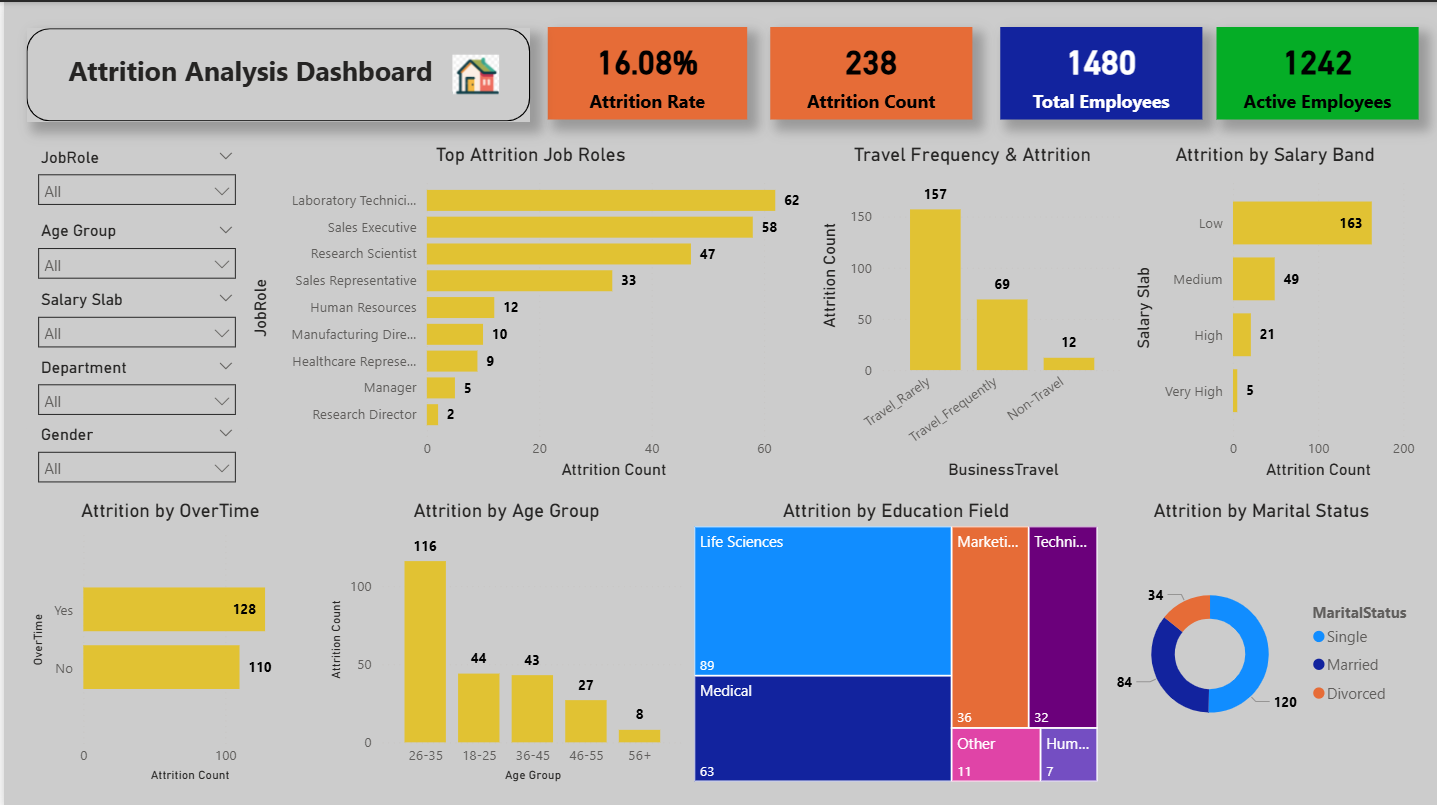

This screenshot's page, from the dashboard's own definition file:
{"tool":"powerbi","page":{"name":"Attrition Analysis","canvas":[1280,720],"ordinal":1},"visuals":[{"type":"card","fields":{"Values":["HR_Analytics.Total Employees"]},"box":[886.7,22.2,180,82.2],"z":0},{"type":"card","fields":{"Values":["HR_Analytics.Attrition Count"]},"box":[682.2,22.2,180,82.2],"z":1000},{"type":"card","fields":{"Values":["HR_Analytics.Active Employees"]},"box":[1080,22.2,180,82.2],"z":2000},{"type":"card","fields":{"Values":["HR_Analytics.Attrition Rate"]},"box":[484.4,22.2,177.8,82.2],"z":3000},{"type":"clusteredColumnChart","title":"Attrition by Age Group","fields":{"Category":["HR_Analytics.Age Group"],"Y":["HR_Analytics.Attrition Count"]},"box":[285,442.5,325,256.2],"z":4000},{"type":"donutChart","title":"Attrition by Marital Status","fields":{"Category":["HR_Analytics.MaritalStatus"],"Y":["HR_Analytics.Attrition Count"]},"box":[978.8,442.5,282.5,256.2],"z":5000},{"type":"clusteredBarChart","title":"Attrition by OverTime","fields":{"Category":["HR_Analytics.OverTime"],"Y":["HR_Analytics.Attrition Count"]},"box":[20,442.5,256.2,256.2],"z":6000},{"type":"columnChart","title":"Travel Frequency & Attrition","fields":{"Category":["HR_Analytics.BusinessTravel"],"Y":["HR_Analytics.Attrition Count"]},"box":[722,126,280,304],"z":7000},{"type":"barChart","title":"Attrition by Salary Band","fields":{"Category":["HR_Analytics.Salary Slab"],"Y":["HR_Analytics.Attrition Count"]},"box":[1002,126,260,304],"z":8000},{"type":"treemap","title":"Attrition by Education Field","fields":{"Values":["HR_Analytics.Attrition Count"],"Group":["HR_Analytics.EducationField"]},"box":[610,442.5,368.8,256.2],"z":9000},{"type":"barChart","title":"Top Attrition Job Roles","fields":{"Category":["HR_Analytics.JobRole"],"Y":["HR_Analytics.Attrition Count"]},"box":[216,126,506,304],"z":10000},{"type":"slicer","fields":{"Values":["HR_Analytics.Department"]},"box":[20,311.7,196.7,68.3],"z":11000},{"type":"slicer","fields":{"Values":["HR_Analytics.Gender"]},"box":[20,371.7,196.7,58.3],"z":12000},{"type":"slicer","fields":{"Values":["HR_Analytics.Salary Slab"]},"box":[20,251.7,196.7,60],"z":13000},{"type":"slicer","fields":{"Values":["HR_Analytics.Age Group"]},"box":[20,190,196.7,61.7],"z":14000},{"type":"slicer","fields":{"Values":["HR_Analytics.JobRole"]},"box":[20,125,196.7,65],"z":15000},{"type":"shape","box":[20,22.9,448.6,82.9],"z":16000},{"type":"textbox","box":[47.1,40,345.7,47.1],"z":17000},{"type":"actionButton","title":"🏠","box":[392.9,41.4,54.3,45.7],"z":18000}]}

Visuals, with their boxes in screenshot pixels (x1, y1, x2, y2), scaled from the page's 1280x720 canvas onto the 1437x805 screenshot:
card - HR_Analytics.Total Employees: region(995, 25, 1198, 117)
card - HR_Analytics.Attrition Count: region(766, 25, 968, 117)
card - HR_Analytics.Active Employees: region(1212, 25, 1415, 117)
card - HR_Analytics.Attrition Rate: region(544, 25, 743, 117)
"Attrition by Age Group" clusteredColumnChart: region(320, 495, 685, 781)
"Attrition by Marital Status" donutChart: region(1099, 495, 1416, 781)
"Attrition by OverTime" clusteredBarChart: region(22, 495, 310, 781)
"Travel Frequency & Attrition" columnChart: region(811, 141, 1125, 481)
"Attrition by Salary Band" barChart: region(1125, 141, 1417, 481)
"Attrition by Education Field" treemap: region(685, 495, 1099, 781)
"Top Attrition Job Roles" barChart: region(242, 141, 811, 481)
slicer - HR_Analytics.Department: region(22, 348, 243, 425)
slicer - HR_Analytics.Gender: region(22, 416, 243, 481)
slicer - HR_Analytics.Salary Slab: region(22, 281, 243, 348)
slicer - HR_Analytics.Age Group: region(22, 212, 243, 281)
slicer - HR_Analytics.JobRole: region(22, 140, 243, 212)
shape: region(22, 26, 526, 118)
textbox: region(53, 45, 441, 97)
"🏠" actionButton: region(441, 46, 502, 97)
